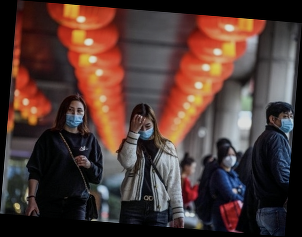with_mask: (63, 104, 86, 130), (275, 110, 294, 134), (135, 121, 155, 141), (222, 152, 238, 169)
